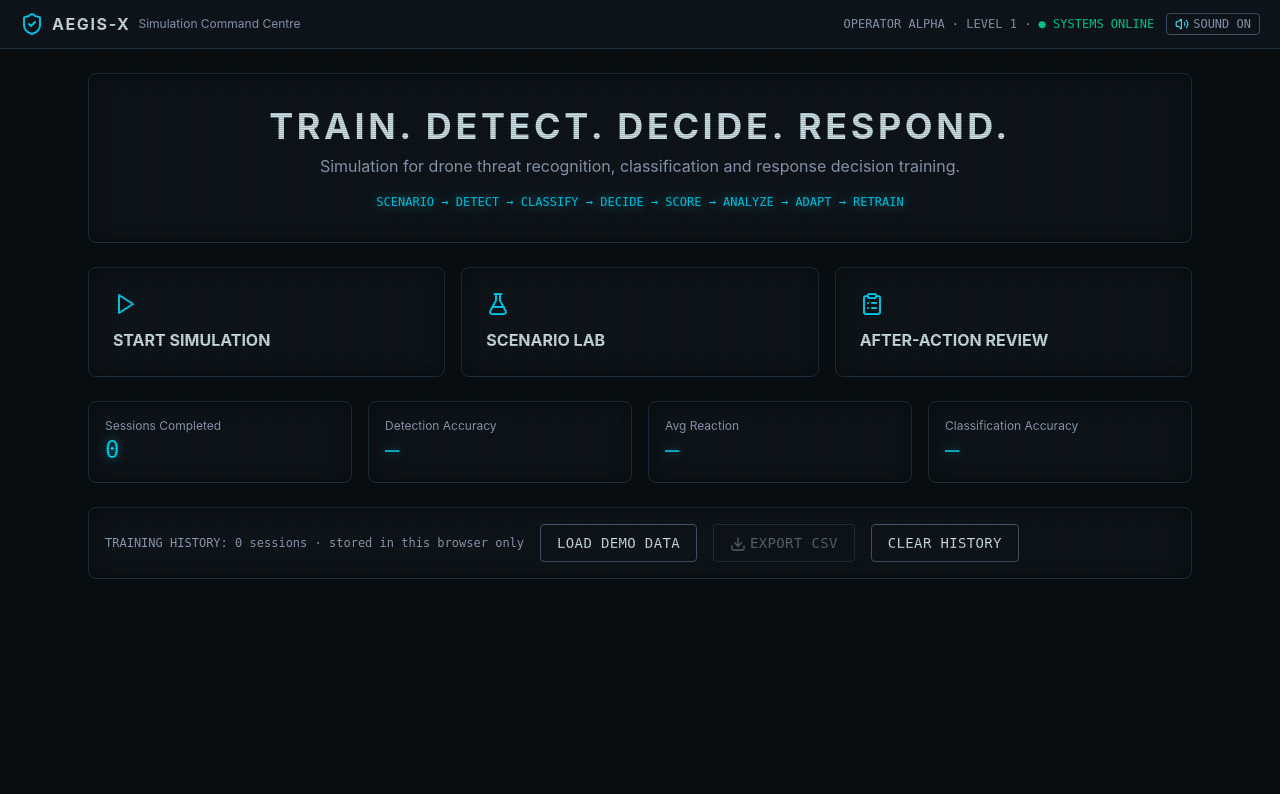
Test: full session → AAR → persistence › demo data is clearly labelled and can be cleared
Step 1. Click the button "LOAD DEMO DATA" → (619, 543), box [540,524,697,562]
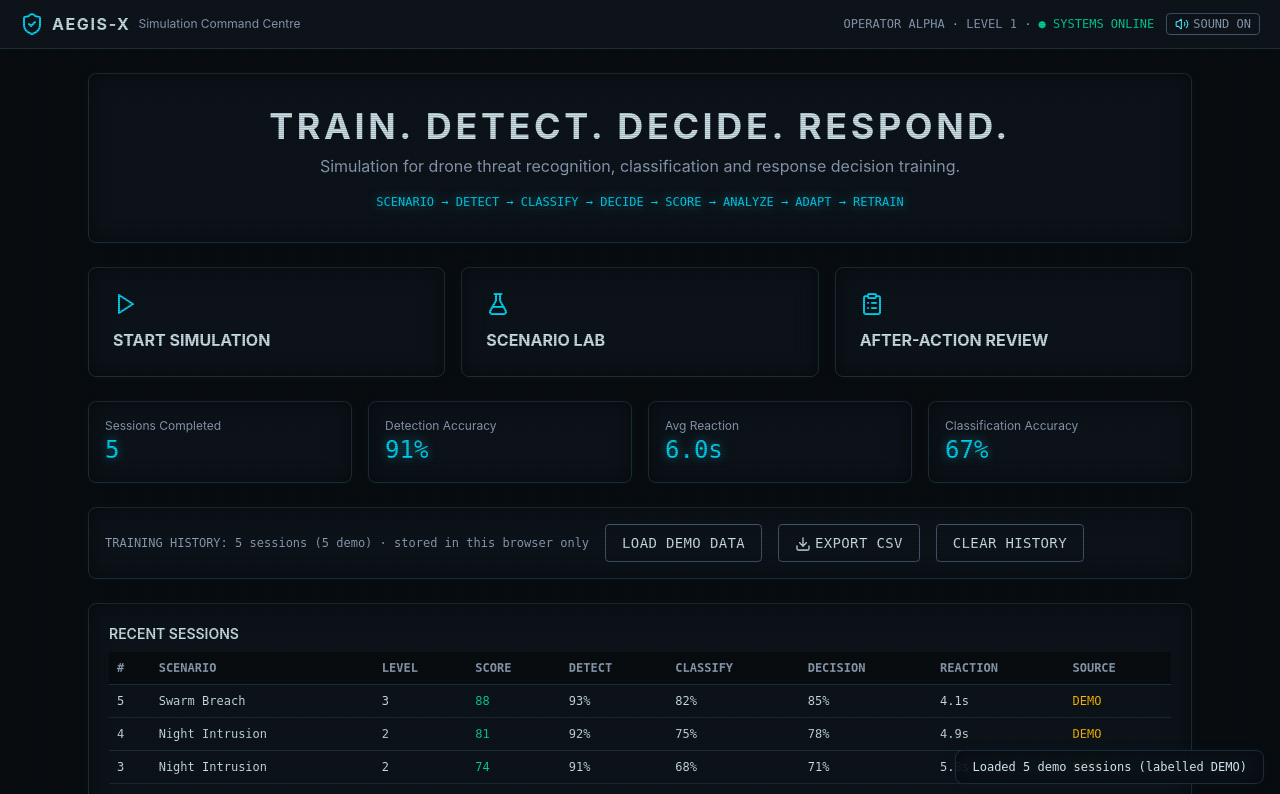
Result: the text "TRAINING HISTORY: 5 sessions (5 demo)" is shown at [105,535,589,551]
Step 2. Click the button "CLEAR HISTORY" → (1010, 543), box [936,524,1084,562]
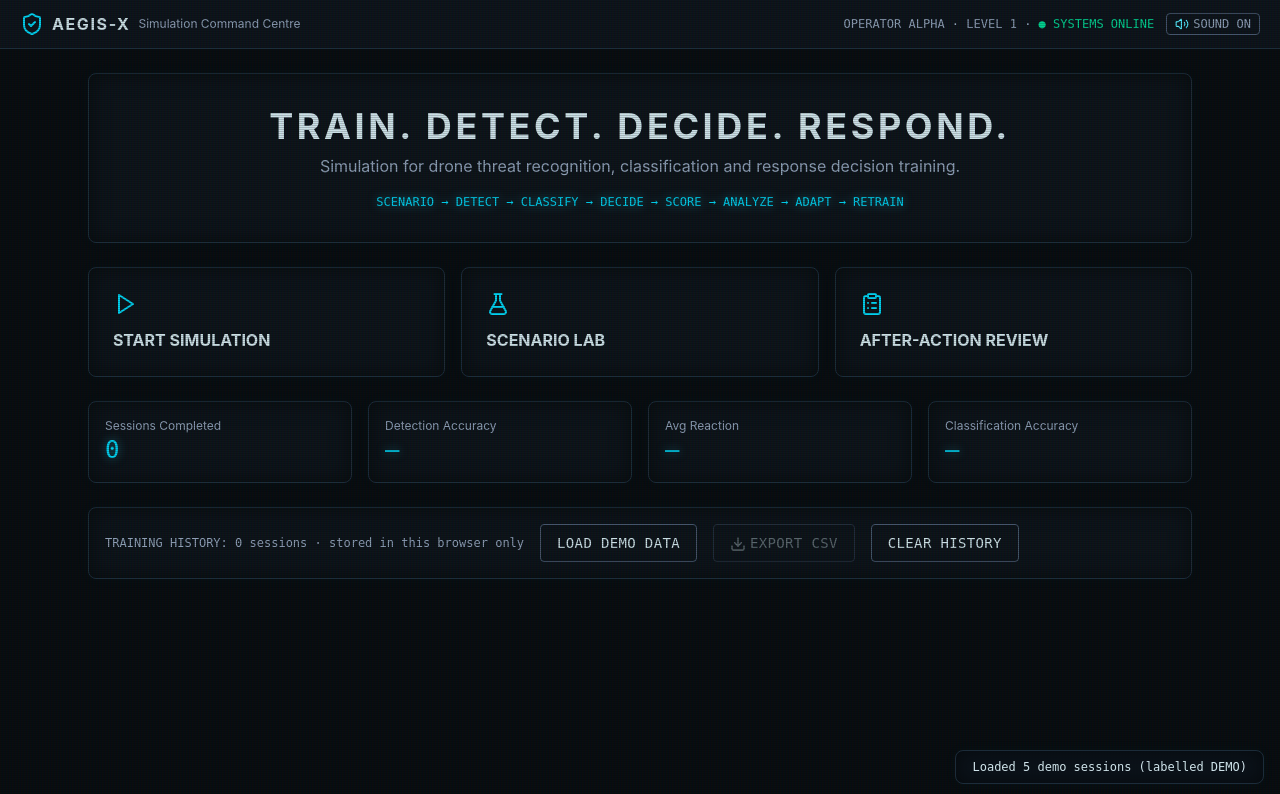
Result: the text "TRAINING HISTORY: 0 sessions" is shown at [105,535,524,551]
